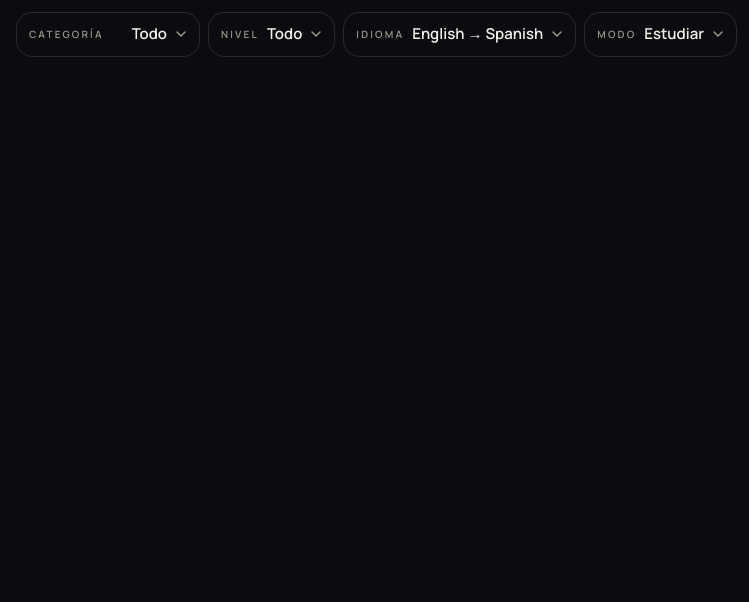
it: StudyMenus › groups phrase categories under the five language skills
The width and height of the screenshot is (749, 602).
Click the button "Categoría Todo". click: coordinates (108, 34)
box: top-left (16, 12), bottom-right (200, 56)
(page scrolled)
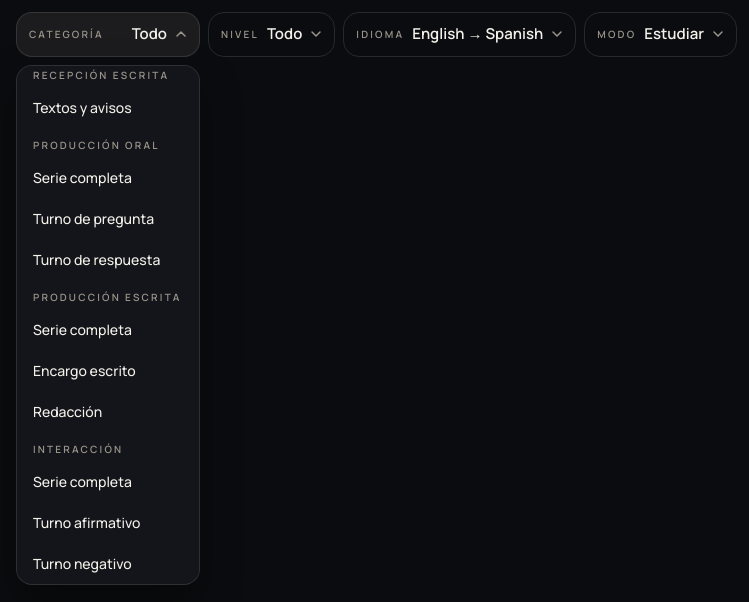
Expected: the text "Recepción escrita" is shown, top-left (33, 68), bottom-right (169, 82)
Expected: the text "Producción oral" is shown, top-left (33, 138), bottom-right (160, 152)
Expected: the text "Producción escrita" is shown, top-left (33, 290), bottom-right (182, 304)
